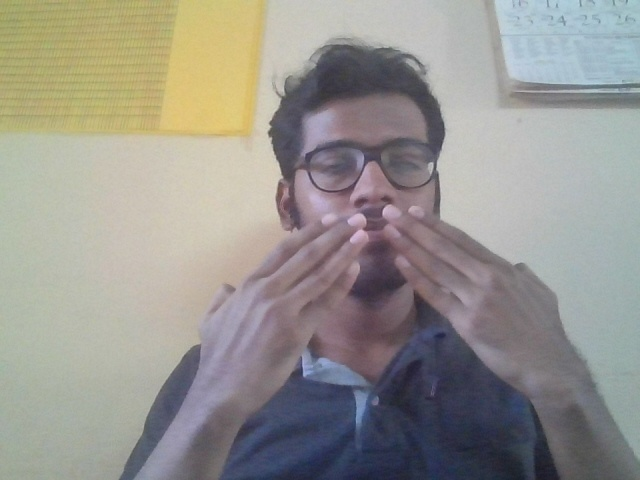ThankYou: (195, 203, 593, 396)
